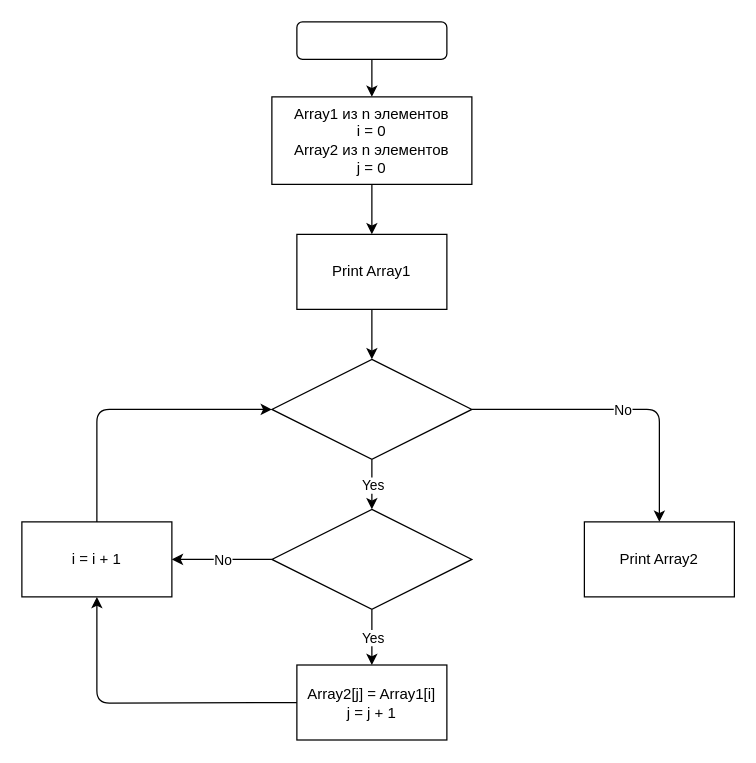
Some shapes in this 756 by 763 pixel diagram are drawn without their labels. The box of each missing label's shape, as (x1, y1, x2, y2) in pixels:
Array1[i] > 8: (271, 508, 472, 609)
i < n: (271, 358, 472, 459)
Start: (296, 21, 447, 59)
